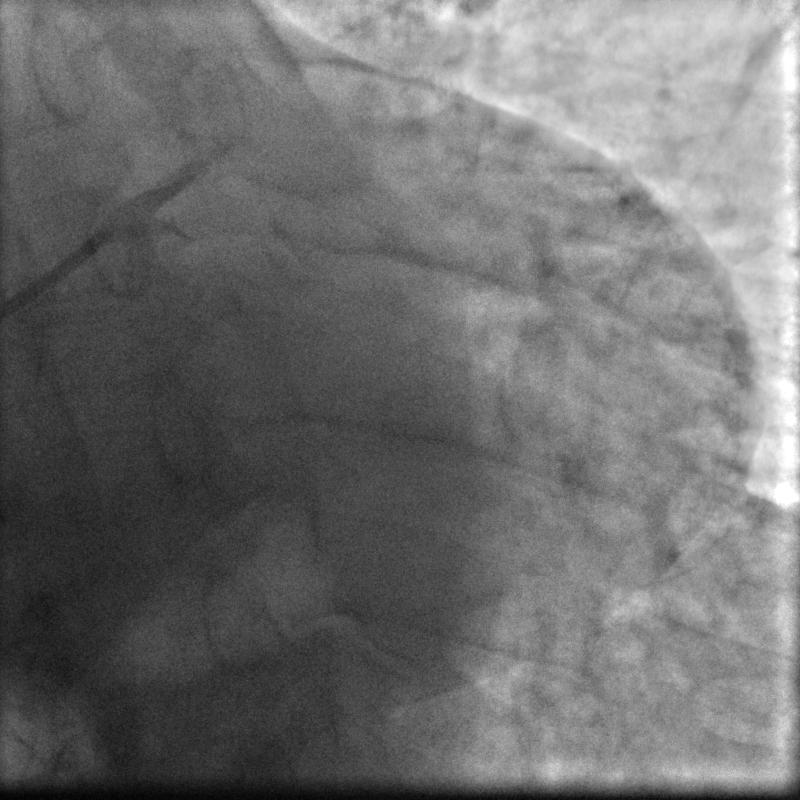Stenosis: (202, 246, 231, 281)
